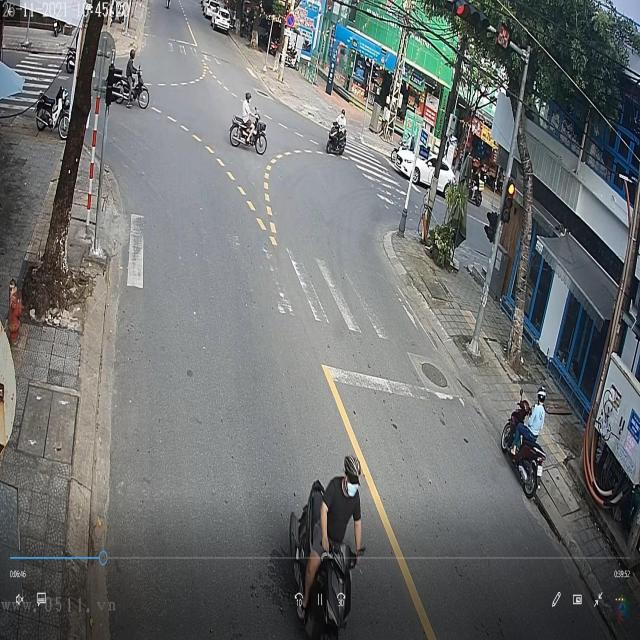car: (394, 141, 455, 197)
motorcycle: (508, 441, 545, 498), (112, 70, 150, 111), (230, 112, 268, 151), (328, 124, 347, 155)
